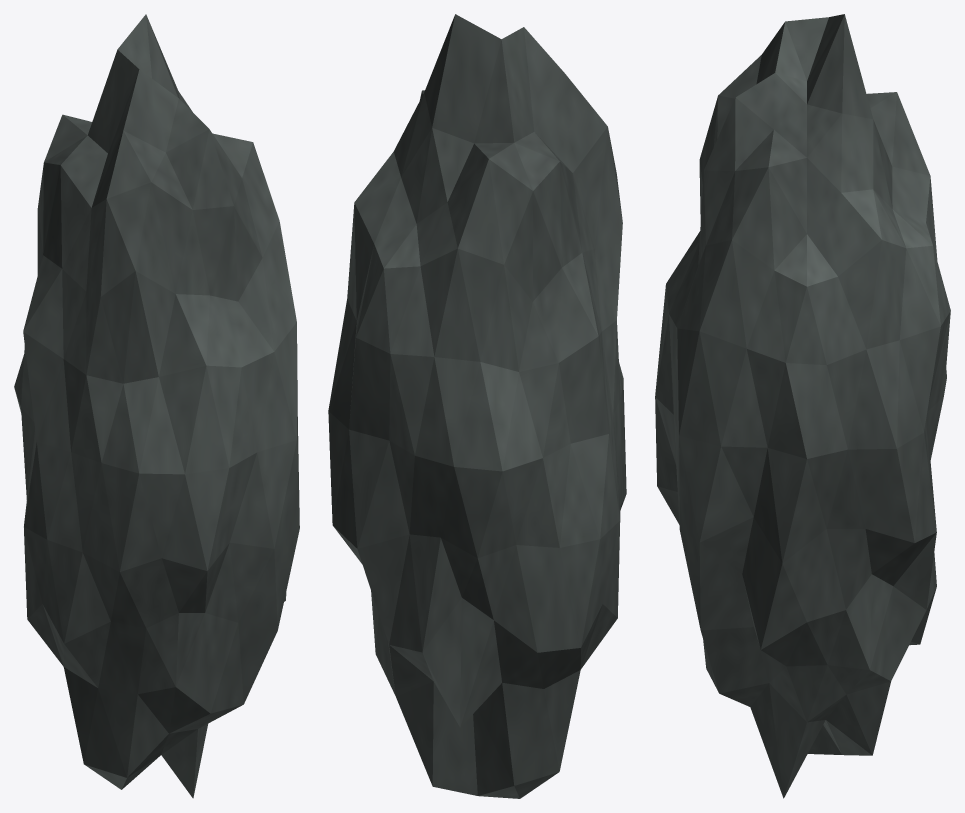
The model's file is sea_stack.glb.
3 views of the same model, side by side, from view 1: azimuth 30°, elevation 25°; view 2: azimuth 150°, elevation 25°; view 3: azimuth 270°, elevation 25° (orthographic). The views are drawn at different scales.
Visible parts, largest first — view 1: Stack; view 2: Stack; view 3: Stack.
Part boxes in pixels (x1,y1,x2,y2): Stack: [14, 14, 299, 798]; Stack: [328, 14, 626, 798]; Stack: [655, 14, 950, 798].
Size of the model in its own units: 5.09 by 15.14 by 5.23.
1 material, 1 textured.
